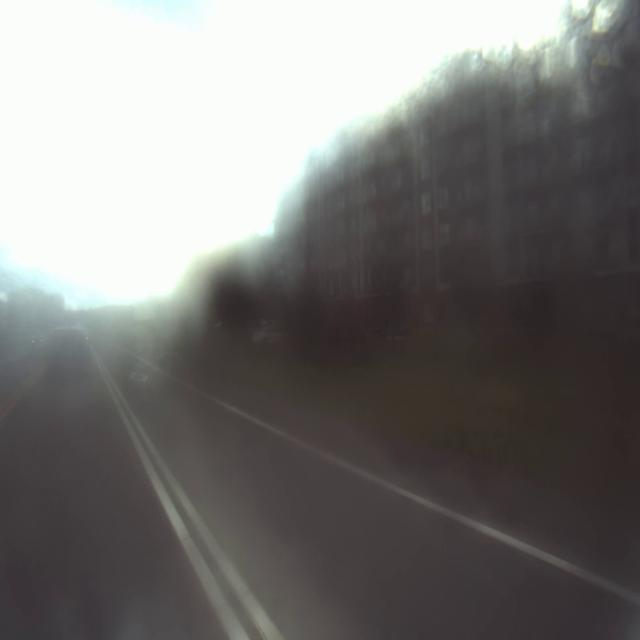car: (42, 317, 92, 387)
